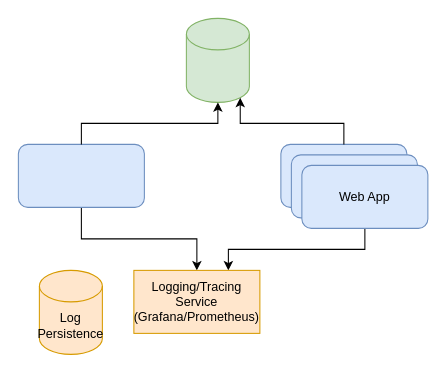
This 446x373 diagram has some shape labels left out. The shapes that lost their labels are listed below. From the top down, each one's centre as x and y in pixels, then its label:
At (x=217, y=59): "DB".
At (x=80, y=175): "ETL_Pipeline (CLI)".
